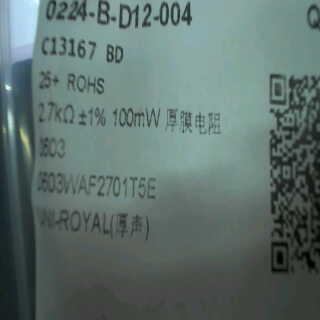2.7kR: (35, 100, 82, 128)
